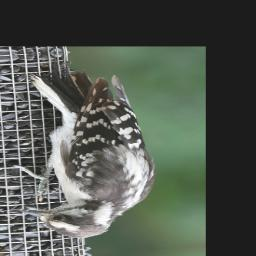Woodpecker: (0, 62, 164, 242)
